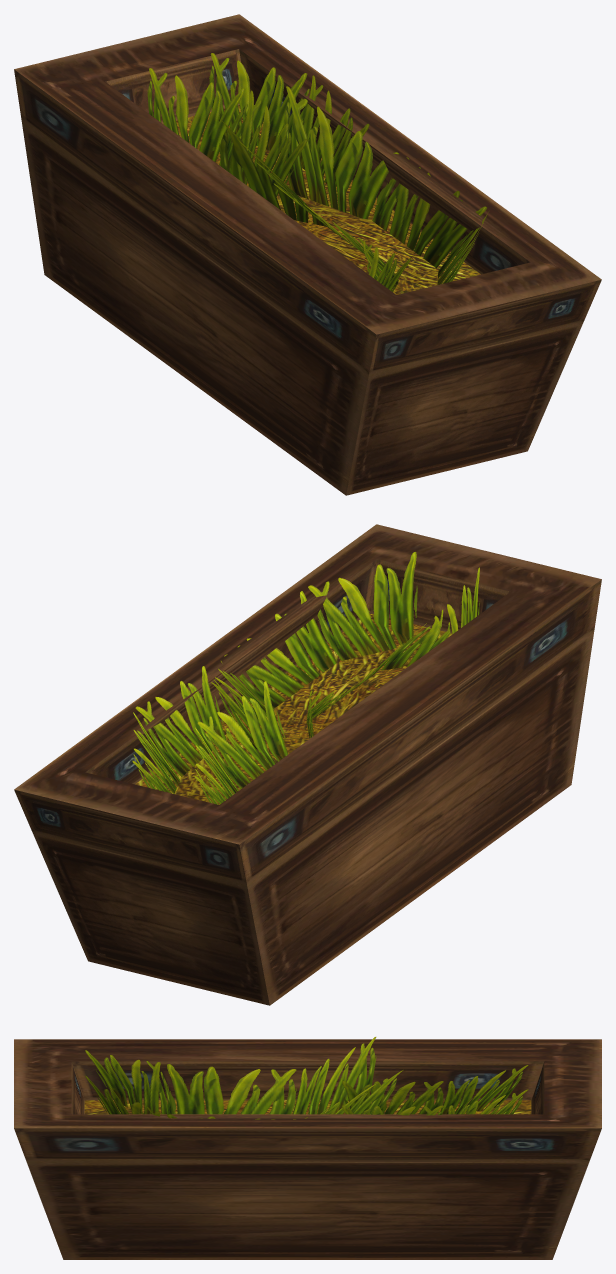
The model's file is stormwindwindowplantergrass.obj.
3 renders of one model, top to bottom at view 1: azimuth 30°, elevation 25°; view 2: azimuth 150°, elevation 25°; view 3: azimuth 270°, elevation 25°, orthographic. The views are drawn at different scales.
Visible parts, largest first — view 1: Geoset1, Geoset0, Geoset2; view 2: Geoset1, Geoset0, Geoset2; view 3: Geoset1, Geoset0, Geoset2.
Part boxes in pixels (<box>): Geoset1: <box>14,14,601,495</box>; Geoset0: <box>147,53,488,291</box>; Geoset2: <box>163,105,480,294</box>; Geoset1: <box>14,524,601,1005</box>; Geoset0: <box>132,552,479,804</box>; Geoset2: <box>135,613,452,804</box>; Geoset1: <box>14,1039,601,1259</box>; Geoset0: <box>85,1037,528,1119</box>; Geoset2: <box>84,1100,531,1114</box>.
Bounding box in the file's own units: 2.02 × 1.9 × 5.62.
Materials: 3 (3 with a texture image).
